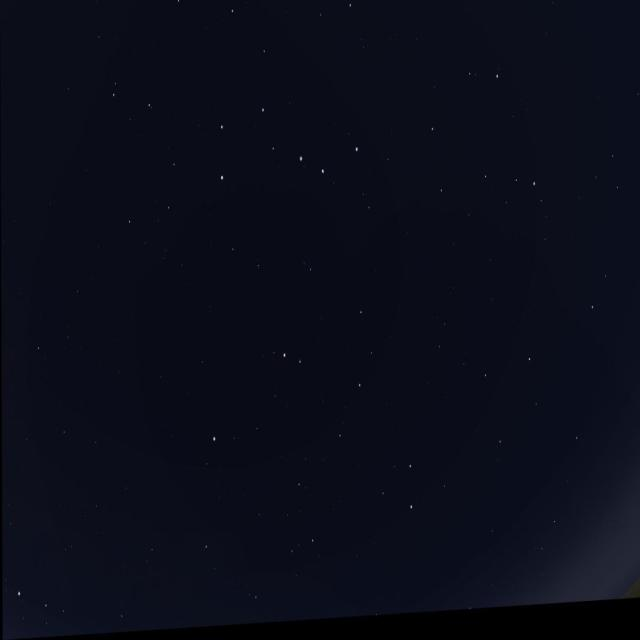ursa_major: (218, 97, 367, 210)
